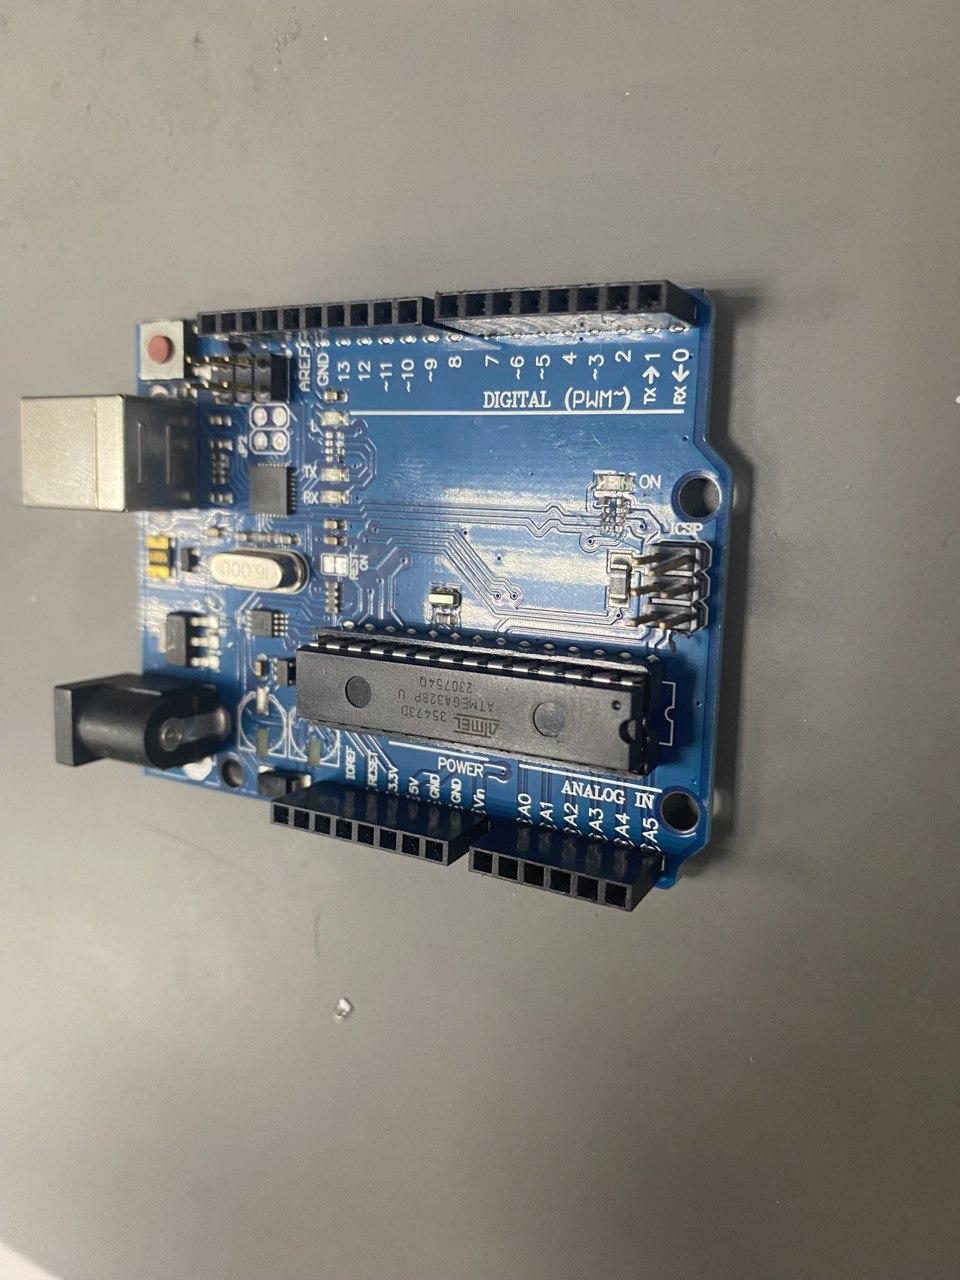ATmega328 chip: (294, 629, 659, 779)
Arduino board: (20, 277, 734, 914)
USB: (20, 394, 200, 512)
pins: (266, 778, 491, 867), (468, 821, 664, 913), (436, 277, 697, 340), (199, 295, 469, 348)
resistor: (325, 583, 340, 614), (212, 455, 227, 485)
